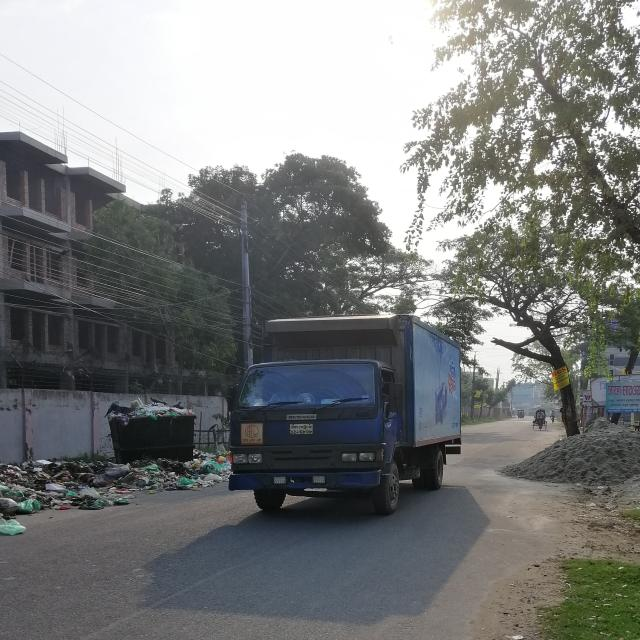Pick-up-van: (212, 310, 478, 516)
